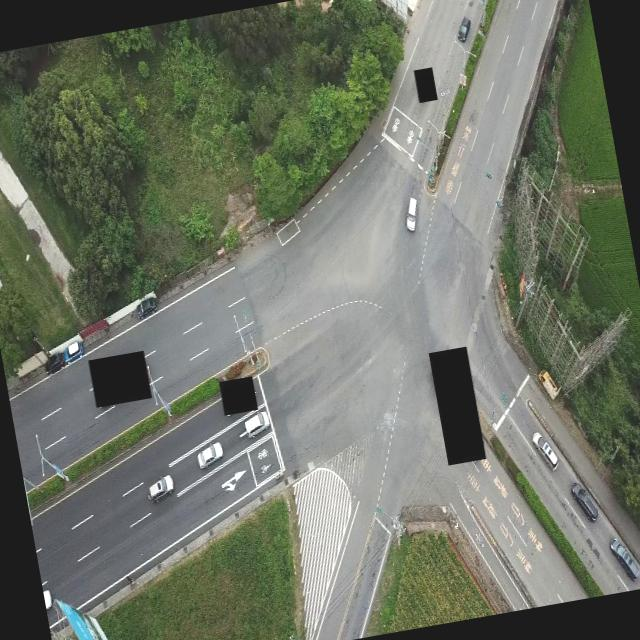car: (608, 533, 640, 582), (569, 478, 599, 524), (530, 428, 559, 472), (194, 439, 226, 469), (536, 366, 562, 402), (145, 474, 176, 504), (241, 408, 271, 438), (401, 195, 422, 232), (133, 290, 159, 319), (60, 338, 86, 364), (454, 14, 473, 42), (42, 352, 64, 374)
